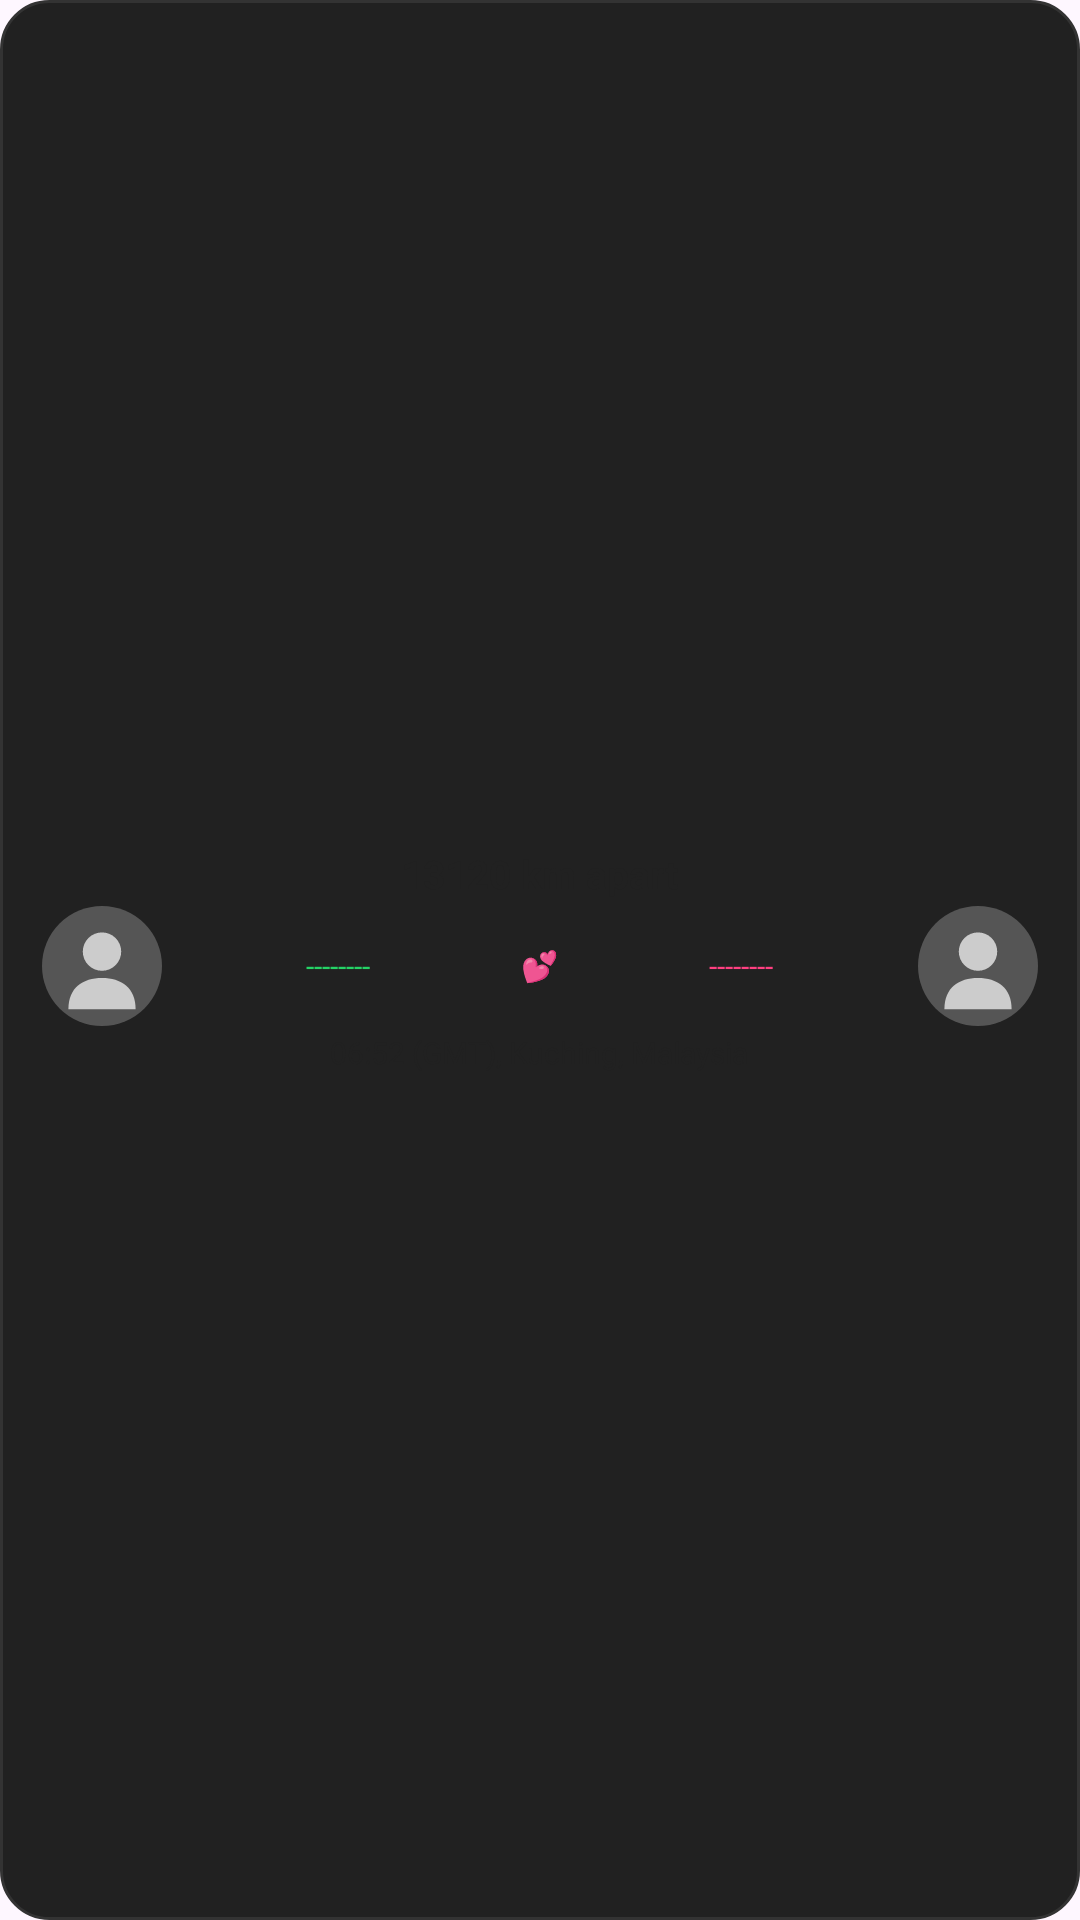

Screen size 1080×1920. Icon name, then its box in pixels as (x1, y1, x2, y2):
My Avatar: (42, 906, 162, 1026)
Partner Avatar: (918, 906, 1038, 1026)
